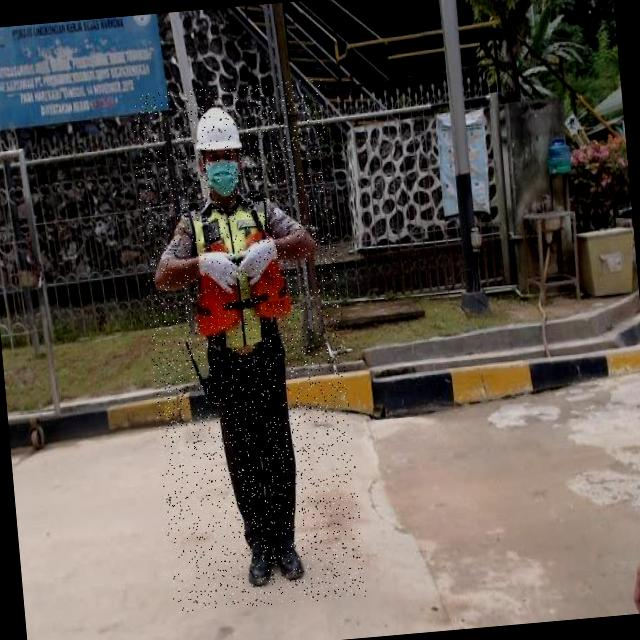boots: (273, 540, 306, 586), (246, 544, 276, 590)
gloves: (190, 242, 242, 300), (233, 230, 280, 288)
helmet: (195, 103, 248, 202)
vest: (189, 196, 293, 351)
